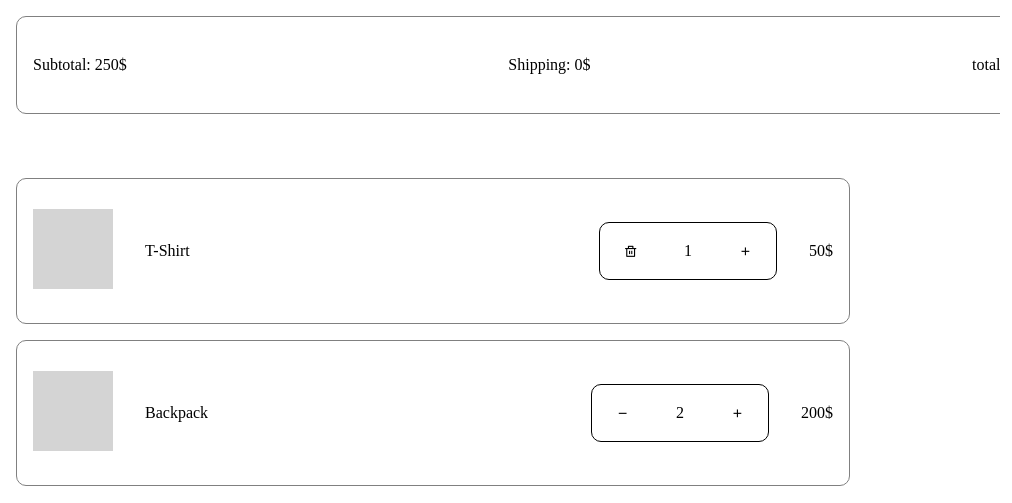
Test: Cart testing › deleting product test
Click the button named "remove product out of cart". click: (631,251)
box: x1=608 y1=228 x2=653 y2=274
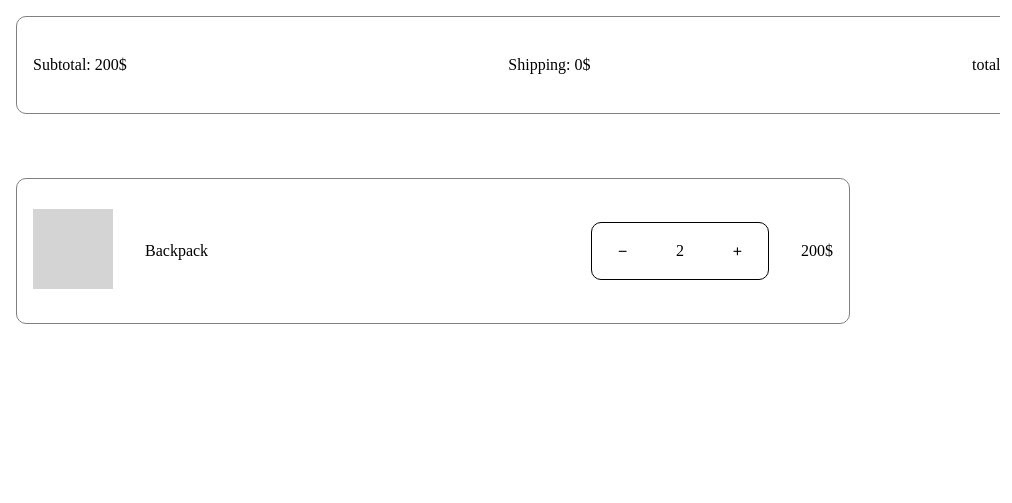
Expected: the text "T-Shirt" is gone
